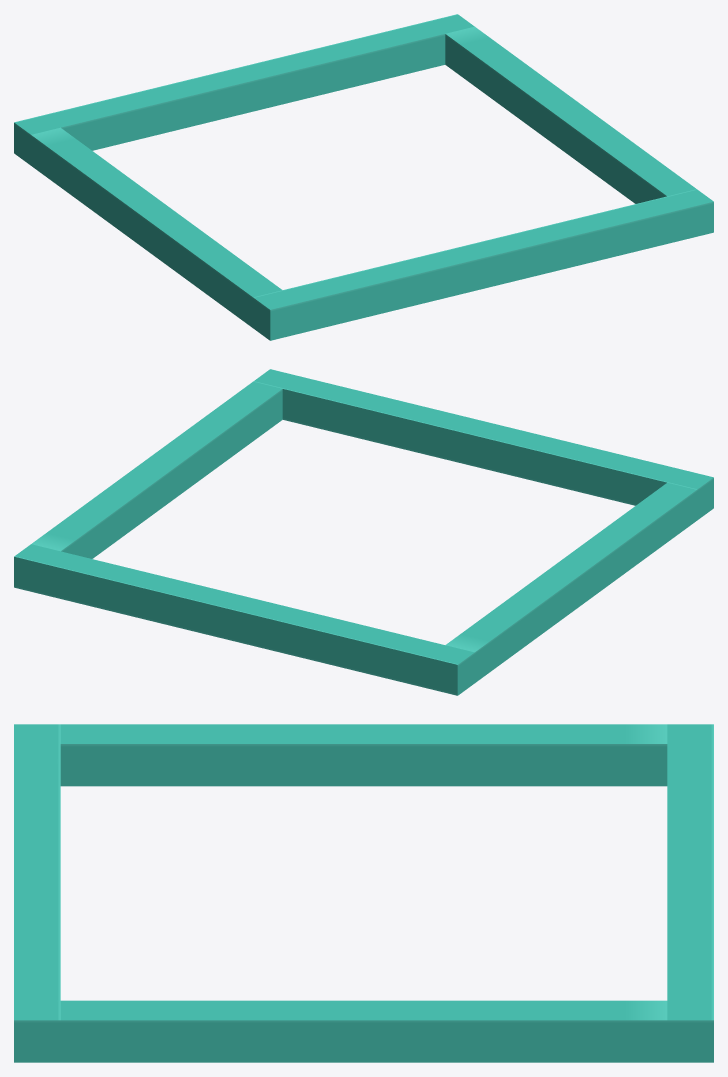
The model's file is sc_station_ring.obj.
The picture shows the model from 3 angles, top to bottom: view 1: azimuth 30°, elevation 25°; view 2: azimuth 150°, elevation 25°; view 3: azimuth 270°, elevation 25°; orthographic projection. The views are drawn at different scales.
Bounding box in the file's own units: 18.75 × 1.25 × 18.75.
Materials: 1 (1 with a texture image).
